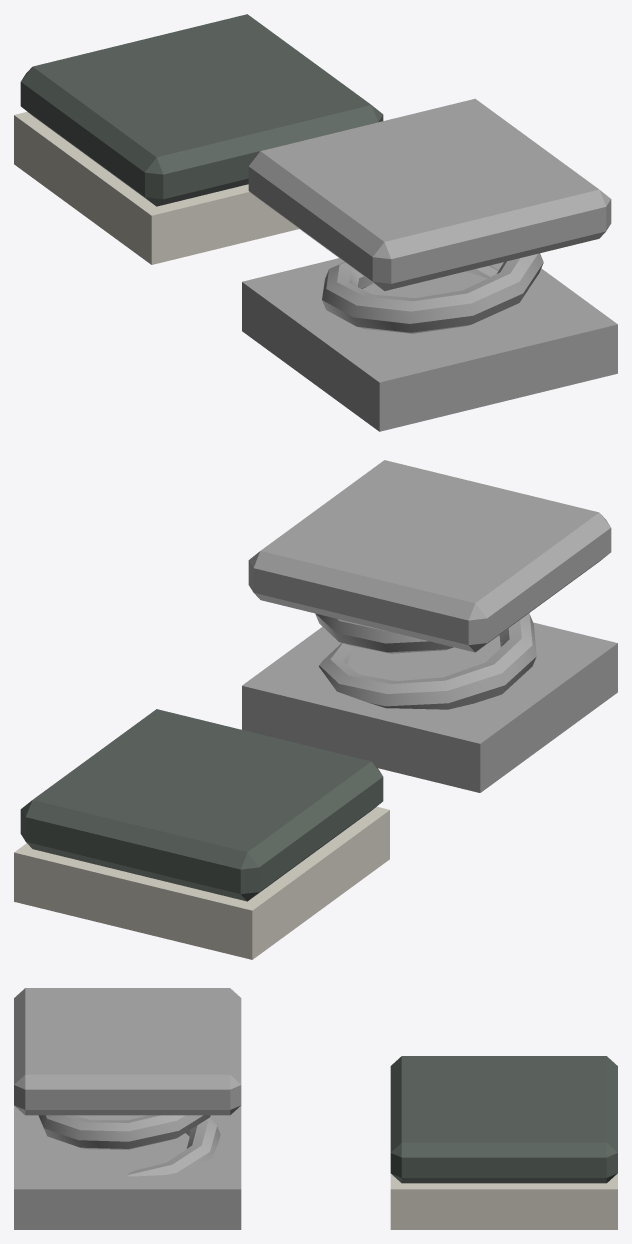
File: GON-jumpplate-TEX-idleUP.fbx
3 renders of one model, top to bottom at view 1: azimuth 30°, elevation 25°; view 2: azimuth 150°, elevation 25°; view 3: azimuth 270°, elevation 25°, orthographic. The views are drawn at different scales.
Parts seen in each view (by area): view 1: pHelix3, polySurface1, polySurface3, polySurface2; view 2: pHelix3, polySurface1, polySurface3, polySurface2; view 3: pHelix3, polySurface1, polySurface3, polySurface2.
Part boxes in pixels (x1,y1,x2,y2): pHelix3: [14, 14, 383, 264]; polySurface1: [248, 98, 611, 290]; polySurface3: [242, 258, 617, 431]; polySurface2: [322, 253, 543, 333]; pHelix3: [14, 709, 389, 959]; polySurface1: [248, 460, 611, 652]; polySurface3: [242, 622, 617, 792]; polySurface2: [315, 613, 536, 709]; pHelix3: [390, 1056, 617, 1229]; polySurface1: [14, 988, 241, 1115]; polySurface3: [14, 1105, 241, 1229]; polySurface2: [38, 1115, 220, 1176].
Size of the model in its own units: 3.2 by 2.33 by 8.49.
2 materials, 1 textured.
